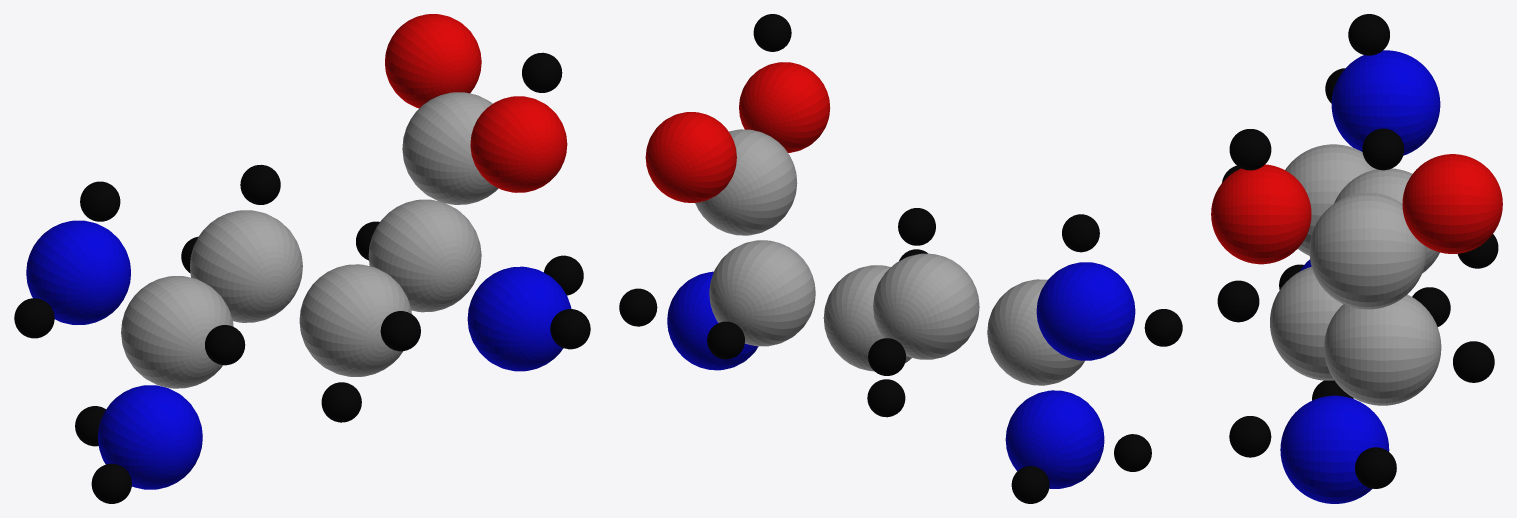
Rendered from Arginine.glb.
The picture shows the model from 3 angles, left to right: view 1: azimuth 30°, elevation 25°; view 2: azimuth 150°, elevation 25°; view 3: azimuth 270°, elevation 25°; orthographic projection. The views are drawn at different scales.
Visible parts, largest first — view 1: world; view 2: world; view 3: world.
Part boxes in pixels (x1=…): world: x1=14, y1=14, x2=590, y2=503; world: x1=619, y1=14, x2=1182, y2=503; world: x1=1211, y1=14, x2=1502, y2=503.
Bounding box in the file's own units: 8.27 × 5.18 × 3.49.
